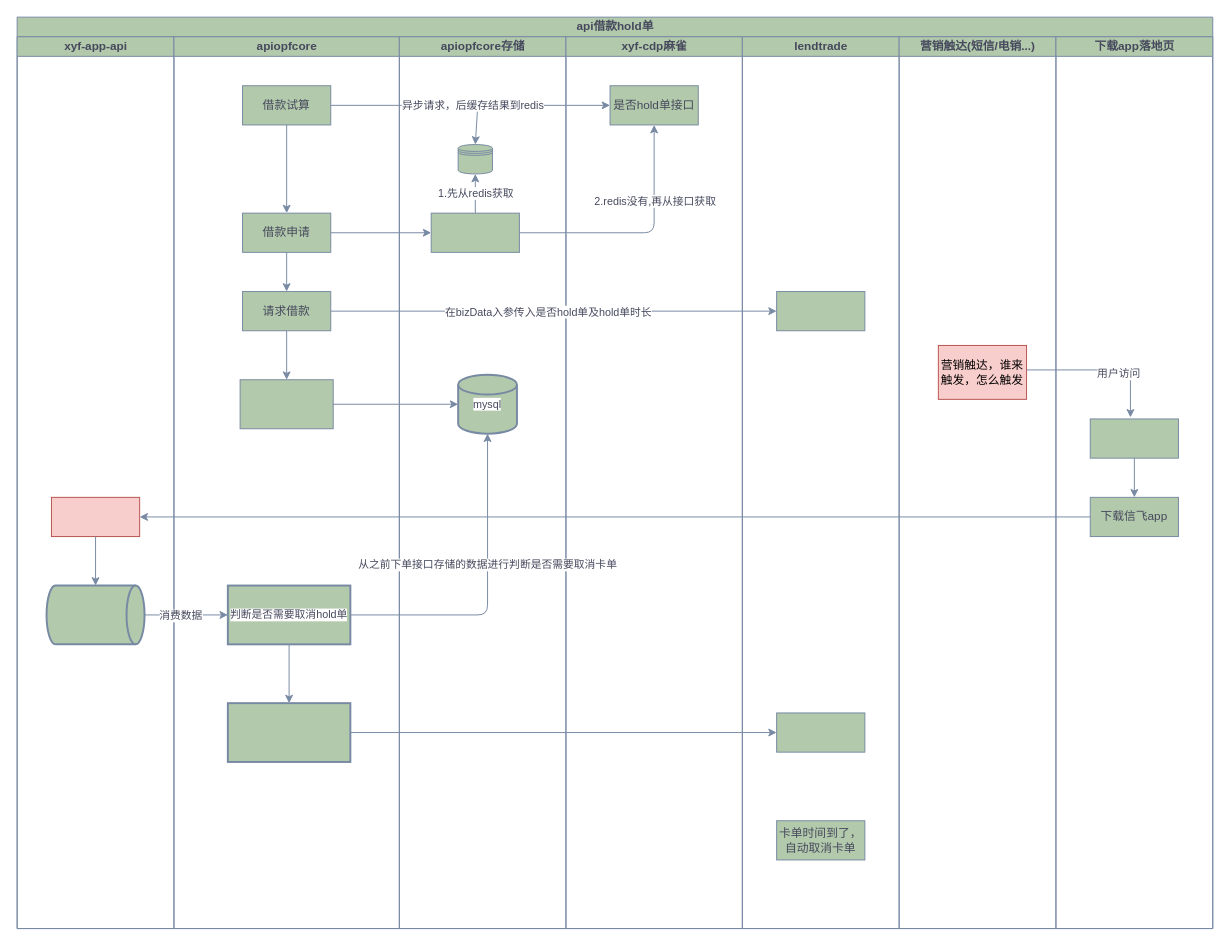
Image size: 1230x946. Some labels were removed from this diagram. The centre of each missing label's shape, as x and y in pixels:
rabbitmq: the point at 95,614
redis: the point at 474,159
下单接口: the point at 820,311
取消卡单接口: the point at 820,732
将相关数据存入表中: the point at 286,404
注册下载app的落地页: the point at 1133,438
登录app: the point at 95,516
获取用户是否需要hold单: the point at 474,232
请求借款引擎取消卡单: the point at 288,732
